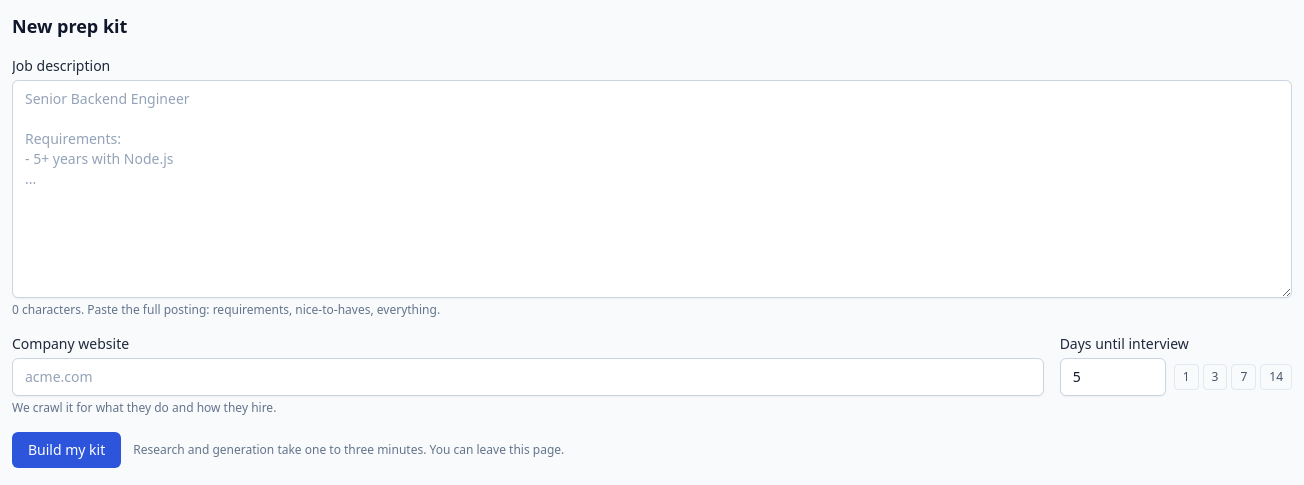
Test case: CreateKitForm › validates fields locally and focuses the first problem
The width and height of the screenshot is (1304, 485).
Step 1. Replace the text in the number field labelled "Days until interview" with "0" → (1113, 377), box [1060, 358, 1166, 396]
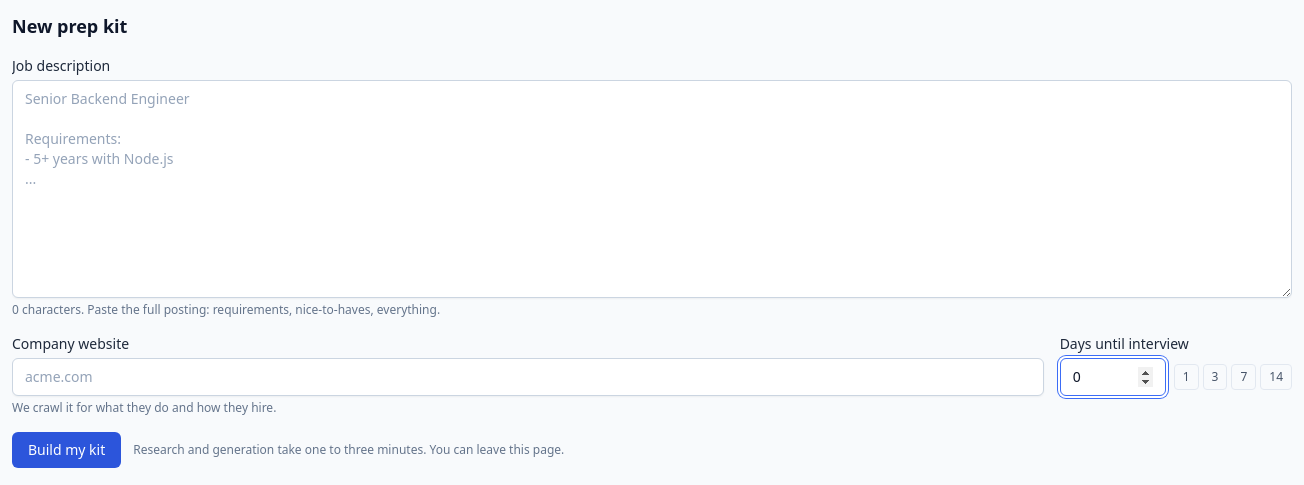
Step 2. Click the button "Build my kit" → (67, 450), box [12, 432, 121, 468]
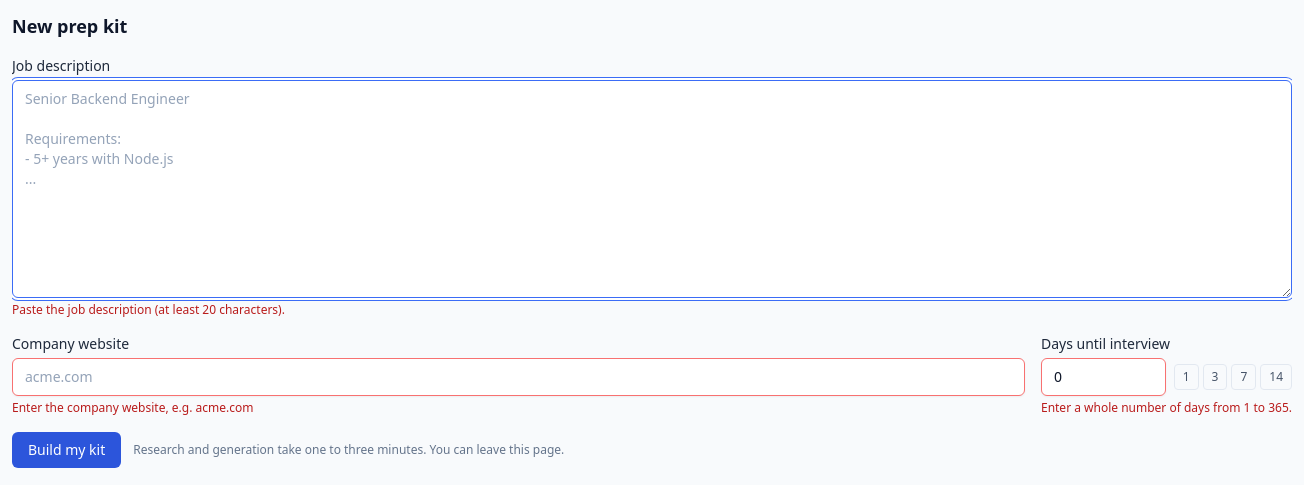
Expected: the text "Paste the job description (at least 20 characters)." is shown, [12, 301, 285, 318]
Expected: the text "Enter the company website, e.g. acme.com" is shown, [12, 399, 253, 416]
Expected: the text "Enter a whole number of days from 1 to 365." is shown, [1041, 400, 1292, 416]
